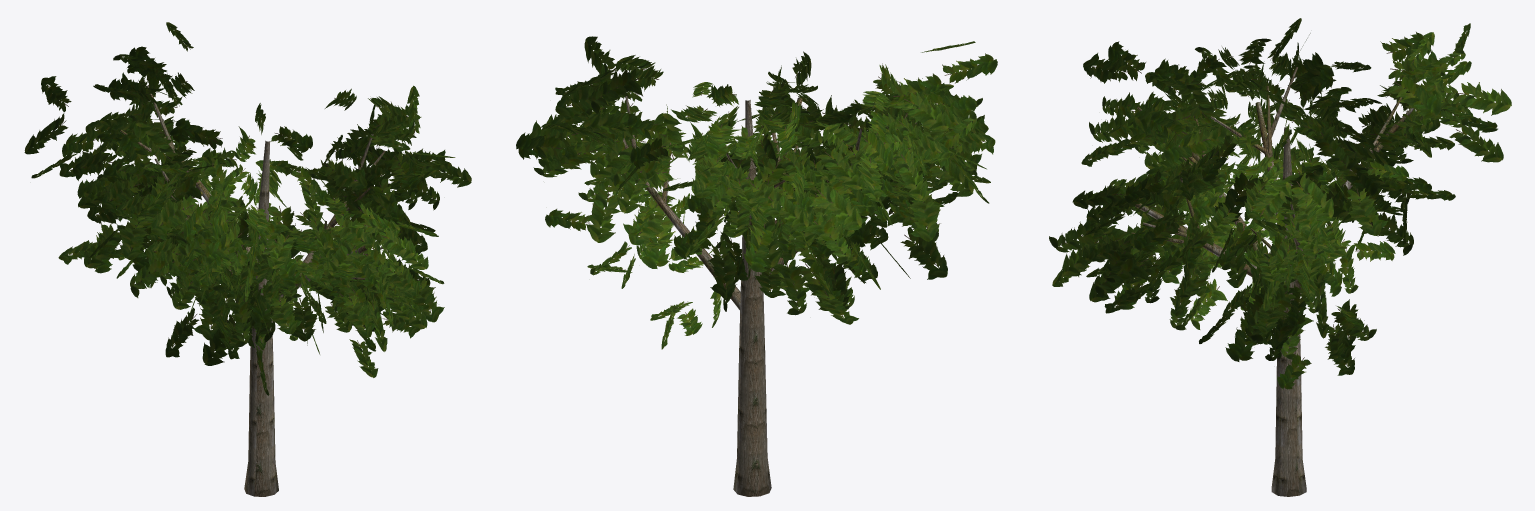
File: tree_0.glb
3 views of the same model, side by side, from view 1: azimuth 30°, elevation 25°; view 2: azimuth 150°, elevation 25°; view 3: azimuth 270°, elevation 25° (orthographic). The views are drawn at different scales.
Parts seen in each view (by area): view 1: Tree; view 2: Tree; view 3: Tree.
Part boxes in pixels (x1,y1,x2,y2): Tree: [24, 22, 471, 496]; Tree: [516, 36, 997, 496]; Tree: [1049, 18, 1511, 496].
Size of the model in its own units: 8.86 by 9.02 by 8.9.
2 materials, 2 textured.
